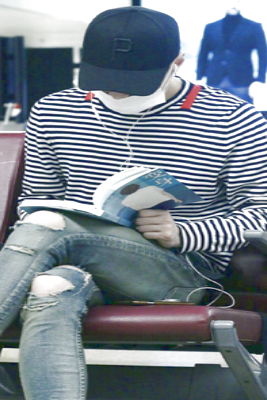mask_weared_incorrect: (94, 76, 170, 116)
